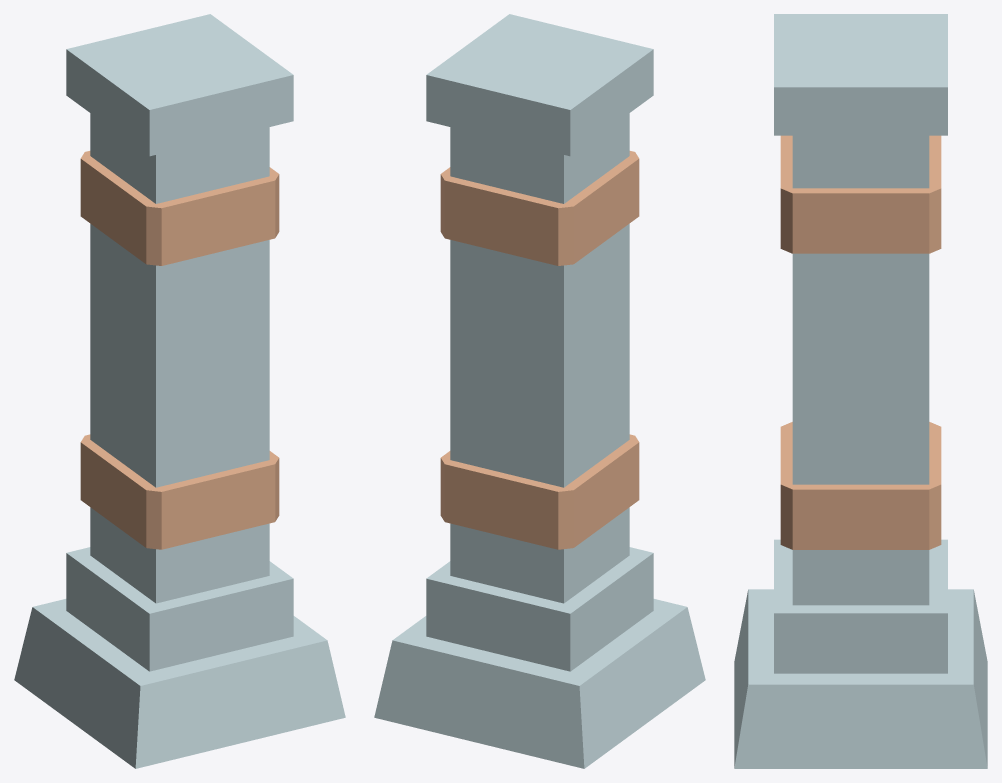
The model's file is columnLarge.glb.
3 views of the same model, side by side, from view 1: azimuth 30°, elevation 25°; view 2: azimuth 150°, elevation 25°; view 3: azimuth 270°, elevation 25° (orthographic). The views are drawn at different scales.
Parts seen in each view (by area): view 1: columnLarge; view 2: columnLarge; view 3: columnLarge.
Part boxes in pixels (x1=…): columnLarge: x1=14, y1=14, x2=345, y2=768; columnLarge: x1=374, y1=14, x2=705, y2=768; columnLarge: x1=734, y1=14, x2=987, y2=768.
Size of the model in its own units: 0.38 by 1.1 by 0.38.
